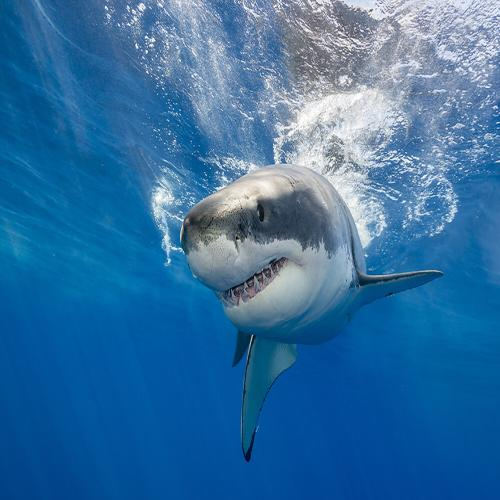shark-endangered: (174, 162, 400, 366)
